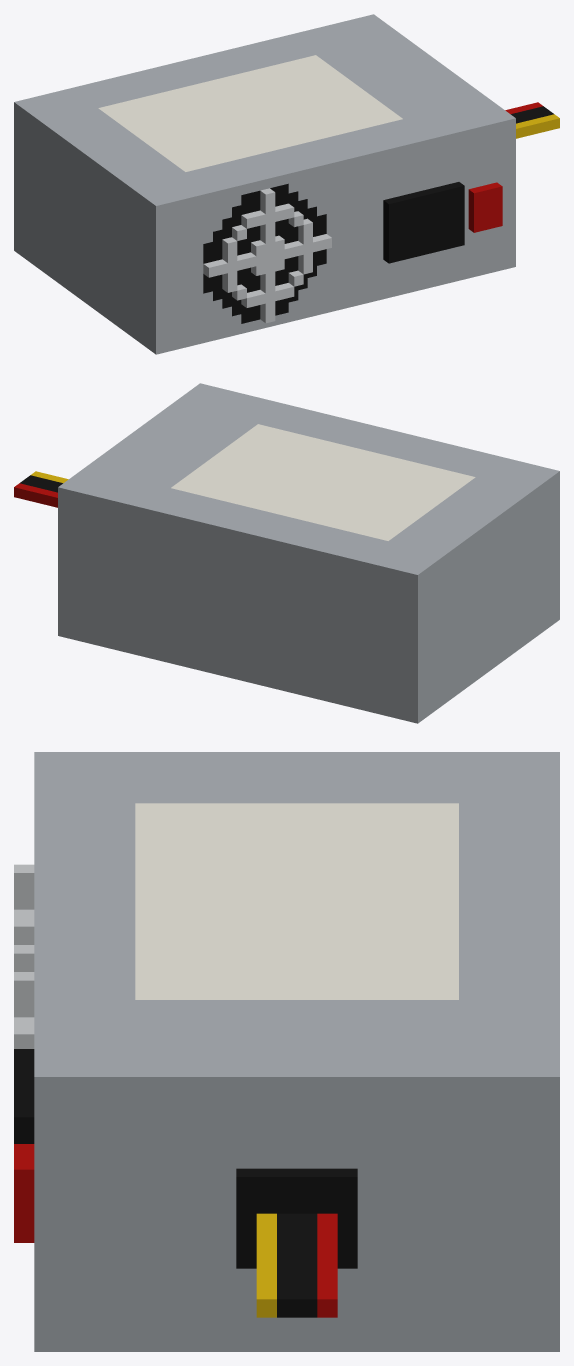
File: power_supply.glb
3 views of the same model, one above another, from view 1: azimuth 30°, elevation 25°; view 2: azimuth 150°, elevation 25°; view 3: azimuth 270°, elevation 25° (orthographic). The views are drawn at different scales.
Parts seen in each view (by area): view 1: power_supply:compound; view 2: power_supply:compound; view 3: power_supply:compound.
Part boxes in pixels (x1=…): power_supply:compound: x1=14, y1=14, x2=559, y2=354; power_supply:compound: x1=14, y1=383, x2=559, y2=723; power_supply:compound: x1=14, y1=752, x2=559, y2=1351.
Bounding box in the file's own units: 0.196 × 0.06 × 0.108.
